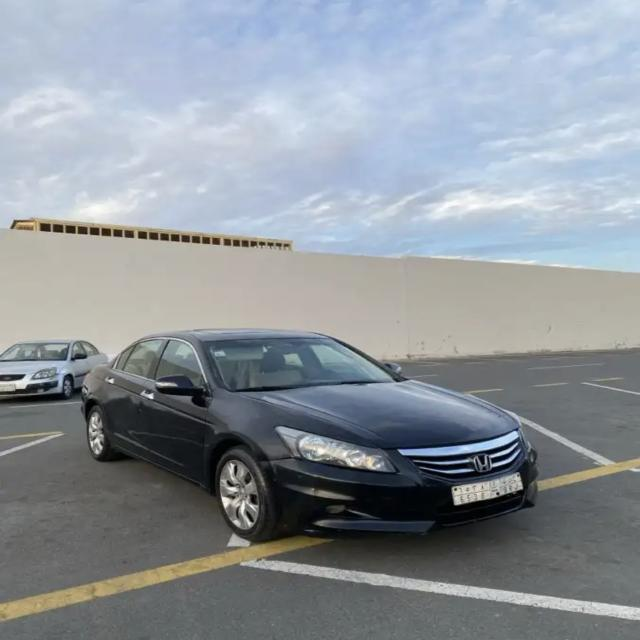license_plate: (450, 473, 522, 506)
